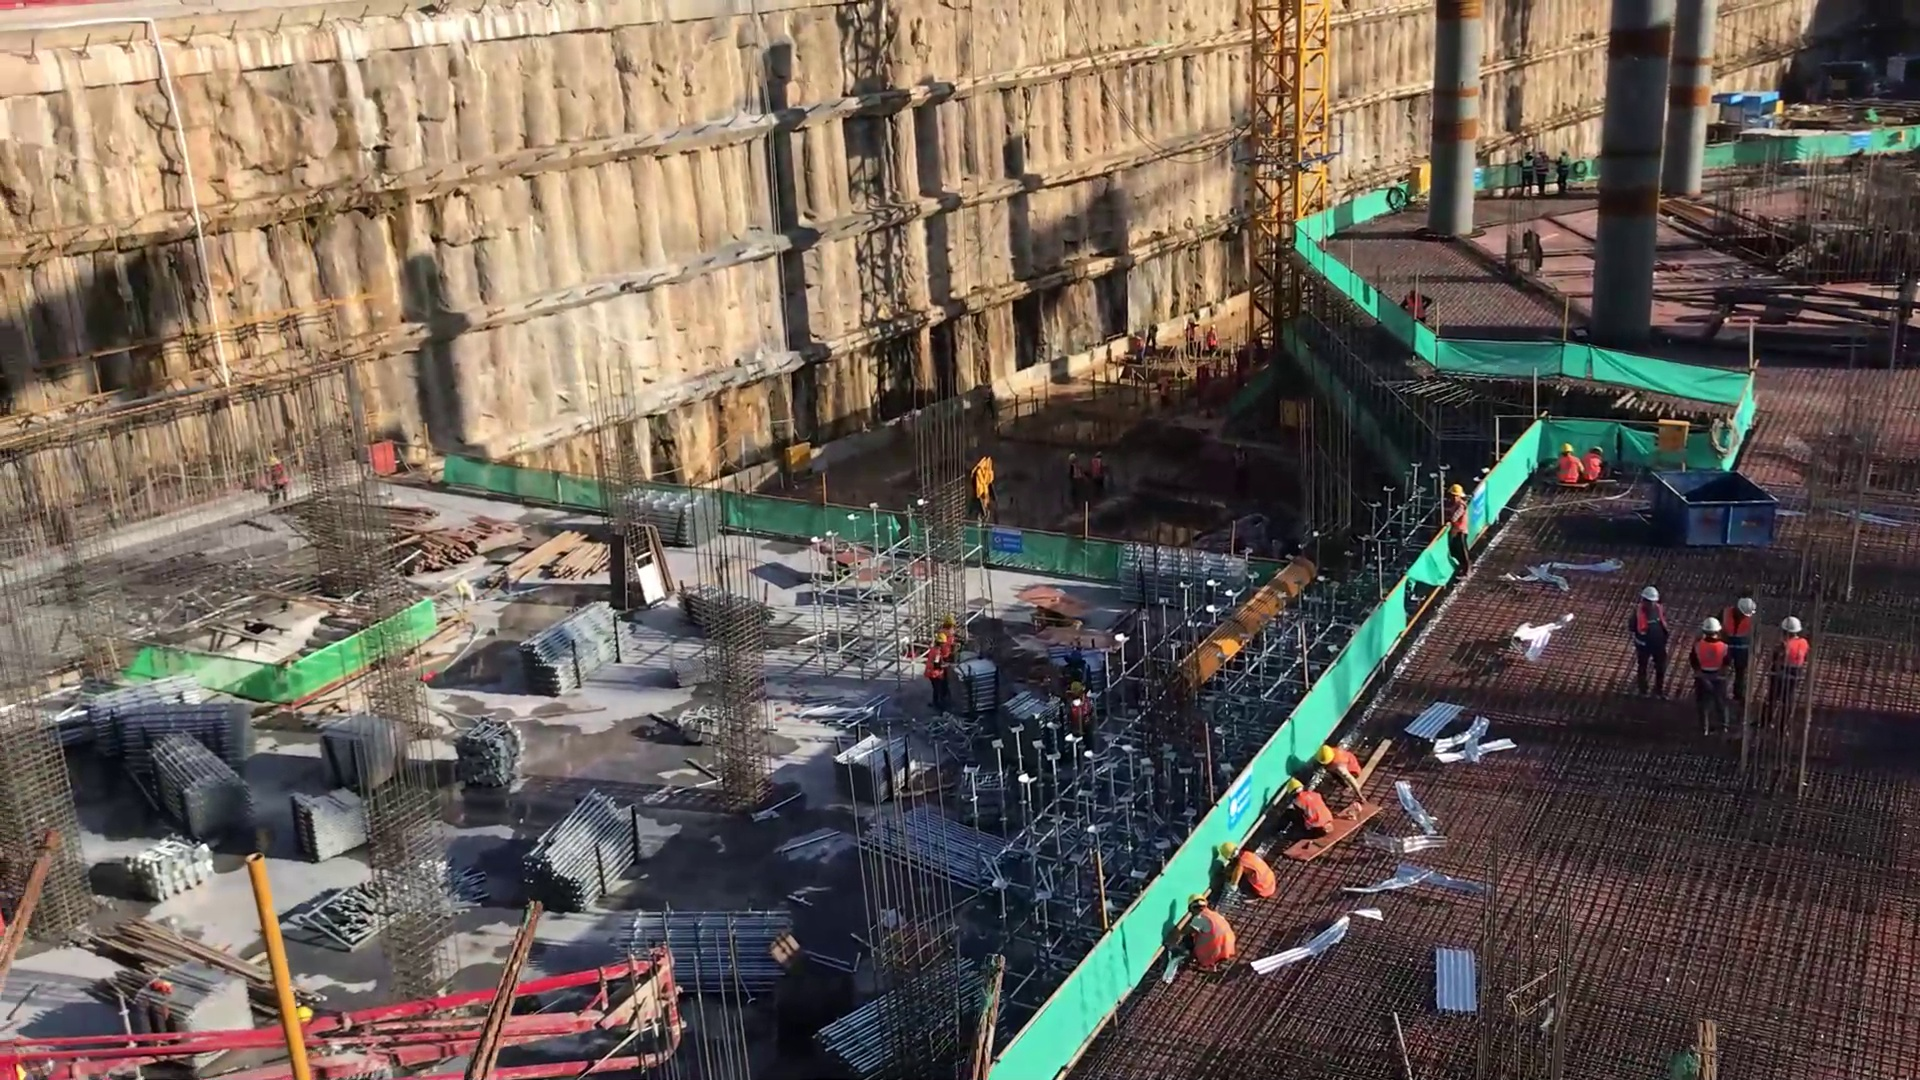ebox: (1650, 417, 1705, 481), (779, 428, 824, 495), (1405, 157, 1436, 207)
helmet: (1736, 595, 1759, 619), (1637, 581, 1661, 604), (1699, 613, 1724, 635), (1779, 614, 1805, 636), (1184, 892, 1209, 913), (1315, 743, 1336, 767), (1282, 775, 1305, 797), (1219, 841, 1238, 863), (1446, 482, 1465, 500), (932, 630, 949, 646), (943, 613, 957, 630), (1559, 442, 1575, 455), (1589, 444, 1603, 454)
hook: (957, 447, 1005, 526)
hopper: (1650, 464, 1791, 557)
person: (1762, 609, 1816, 737), (1688, 612, 1740, 741), (1625, 579, 1677, 702), (1172, 891, 1241, 976), (1437, 476, 1480, 592), (1216, 837, 1281, 911), (1715, 591, 1760, 692), (1278, 772, 1338, 843), (1312, 740, 1373, 811), (923, 631, 952, 716), (1550, 438, 1587, 486), (1578, 442, 1608, 489), (937, 612, 960, 667)
scaffold: (622, 897, 798, 1002), (527, 788, 644, 914), (518, 595, 639, 697), (144, 728, 256, 837), (84, 665, 202, 755), (117, 694, 261, 767), (1107, 538, 1255, 609), (622, 476, 726, 567), (291, 779, 372, 862), (320, 710, 398, 789), (835, 725, 912, 803)
vest: (1188, 909, 1239, 971), (1690, 635, 1732, 698), (1632, 602, 1672, 658), (1774, 633, 1809, 692), (1238, 846, 1274, 904), (1295, 790, 1334, 837), (1722, 606, 1753, 658), (1332, 743, 1363, 783), (1443, 500, 1471, 540), (924, 644, 944, 683), (1556, 453, 1580, 484), (938, 627, 956, 662), (1580, 454, 1601, 482)
